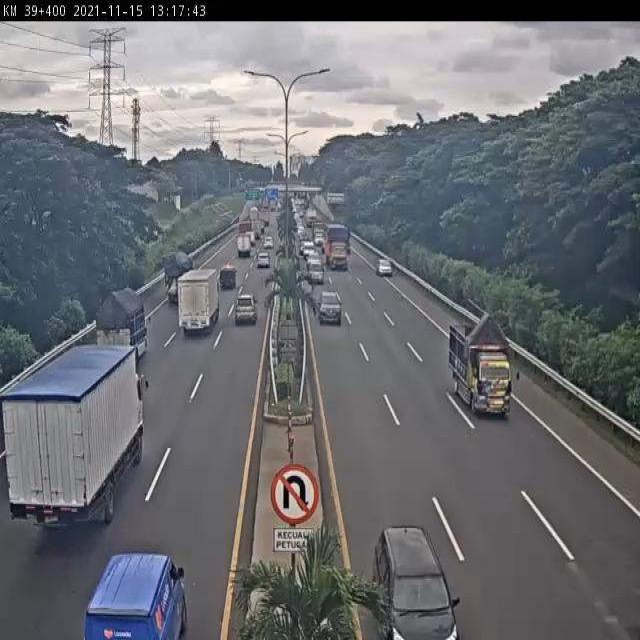car: (374, 526, 461, 640), (232, 292, 259, 327), (375, 253, 395, 280)
truck-l-: (323, 220, 351, 271)
truck-m-: (0, 336, 146, 525), (449, 314, 515, 418), (96, 289, 150, 363), (176, 267, 222, 337), (162, 248, 197, 304)
truck-s-: (218, 260, 238, 291)
